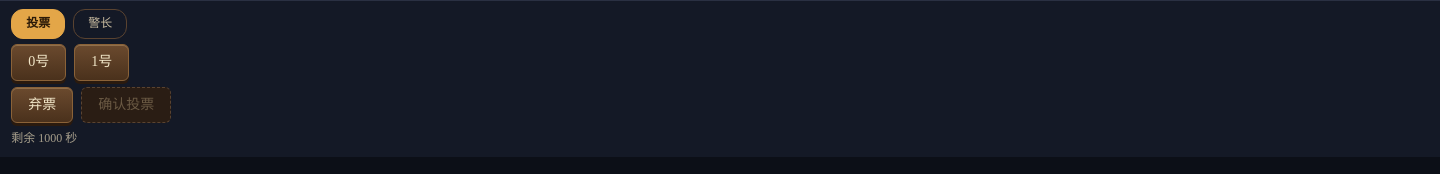
ActionBar › 切换 tab 会清掉其他分组选中的目标
The width and height of the screenshot is (1440, 174).
Click the button "1号" at [102, 63], box [74, 44, 129, 81]
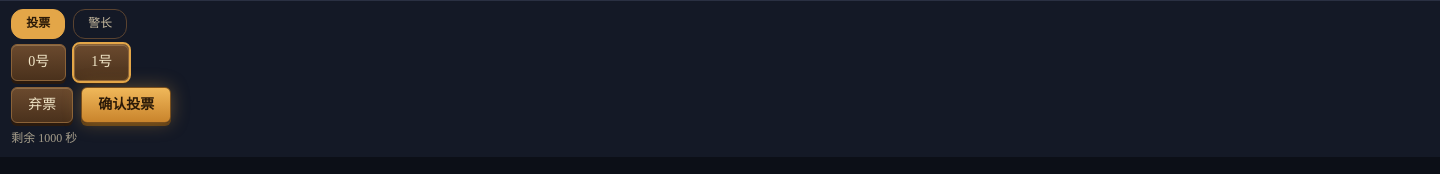
Click the tab "警长" at [100, 24], box [73, 9, 127, 39]
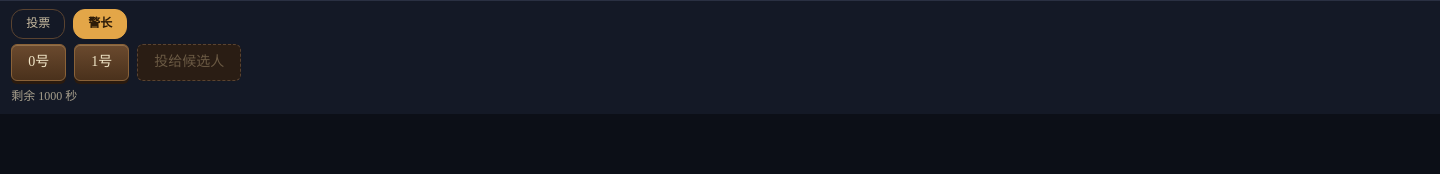
Now the button "投给候选人" is disabled, box [137, 44, 241, 81]
